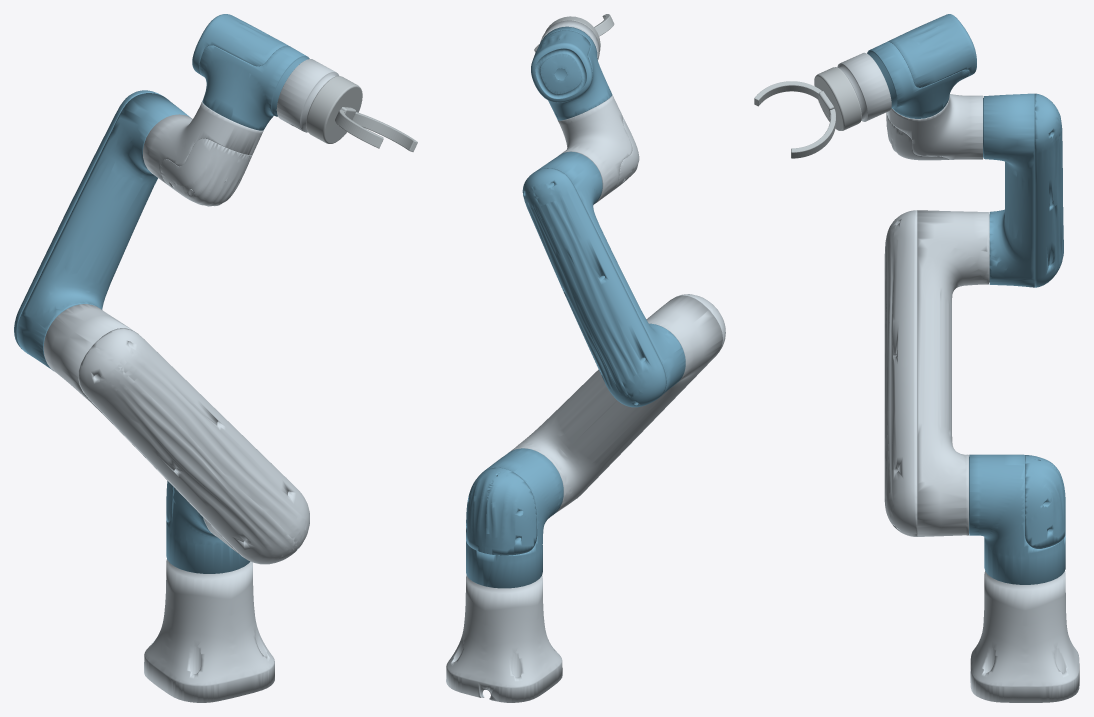
Rendered from nova2.glb.
3 renders of one model, left to right at view 1: azimuth 30°, elevation 25°; view 2: azimuth 150°, elevation 25°; view 3: azimuth 270°, elevation 25°, orthographic. The views are drawn at different scales.
Visible parts, largest first — view 1: nova2 / Link2 visual, nova2 / Link3 visual, nova2 / base_link visual, nova2 / Link5 visual, nova2 / Link4 visual, nova2 / Link1 visual, Cup tong flange, nova2 / Link6 visual, Left curved cup tong / 85 mm ID, Right curved cup tong / 85 mm ID; view 2: nova2 / Link3 visual, nova2 / Link2 visual, nova2 / base_link visual, nova2 / Link1 visual, nova2 / Link5 visual, nova2 / Link4 visual, nova2 / Link6 visual; view 3: nova2 / Link2 visual, nova2 / Link3 visual, nova2 / base_link visual, nova2 / Link1 visual, nova2 / Link5 visual, nova2 / Link4 visual, nova2 / Link6 visual, Cup tong flange, Right curved cup tong / 85 mm ID, Left curved cup tong / 85 mm ID.
Part boxes in pixels (box(x1,y1,x2,y2)): nova2 / Link2 visual: box(43, 304, 309, 564); nova2 / Link3 visual: box(14, 90, 190, 370); nova2 / base_link visual: box(144, 559, 274, 702); nova2 / Link5 visual: box(192, 14, 309, 130); nova2 / Link4 visual: box(143, 101, 263, 206); nova2 / Link1 visual: box(166, 481, 250, 573); Cup tong flange: box(306, 76, 362, 143); nova2 / Link6 visual: box(276, 59, 339, 132); Left curved cup tong / 85 mm ID: box(352, 112, 417, 151); Right curved cup tong / 85 mm ID: box(335, 109, 383, 148); nova2 / Link3 visual: box(522, 151, 685, 407); nova2 / Link2 visual: box(508, 294, 725, 512); nova2 / base_link visual: box(446, 575, 562, 702); nova2 / Link1 visual: box(466, 448, 563, 588); nova2 / Link5 visual: box(531, 26, 612, 120); nova2 / Link4 visual: box(558, 95, 639, 203); nova2 / Link6 visual: box(540, 20, 599, 60); nova2 / Link2 visual: box(884, 210, 989, 536); nova2 / Link3 visual: box(983, 93, 1063, 287); nova2 / base_link visual: box(970, 571, 1079, 702); nova2 / Link1 visual: box(969, 454, 1065, 584); nova2 / Link5 visual: box(867, 14, 976, 118); nova2 / Link4 visual: box(886, 94, 982, 160); nova2 / Link6 visual: box(837, 52, 891, 121); Cup tong flange: box(814, 67, 861, 130); Right curved cup tong / 85 mm ID: box(754, 81, 821, 106); Left curved cup tong / 85 mm ID: box(791, 109, 835, 158).
Bounding box in the file's own units: 0.3232 × 0.7865 × 0.3569.
